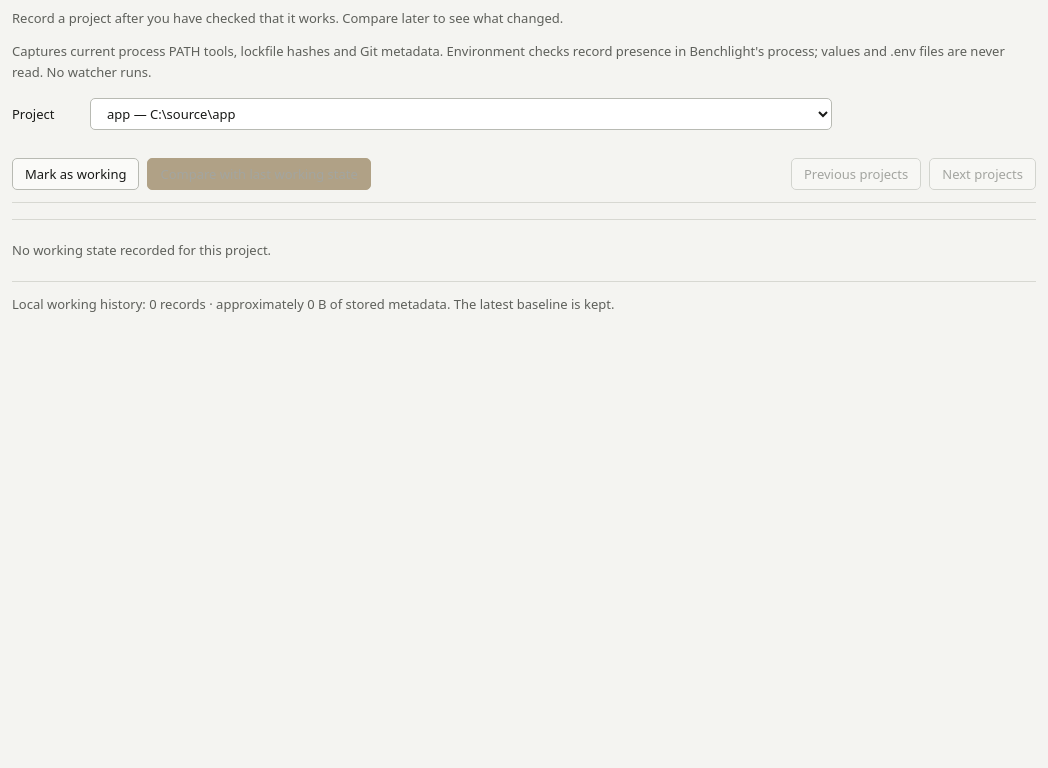
Test: requires a working baseline and shows changed observations without a causal claim
Expected: the text "No working state recorded for this project." is shown, [12,219,1036,282]
Expected: the button "Compare with last working state" is disabled, [148,158,371,190]
What coordinates should you click on to do the following:
click the button "Mark as working"
I would click on:
 (76, 174)
Its box is [12,158,140,190].
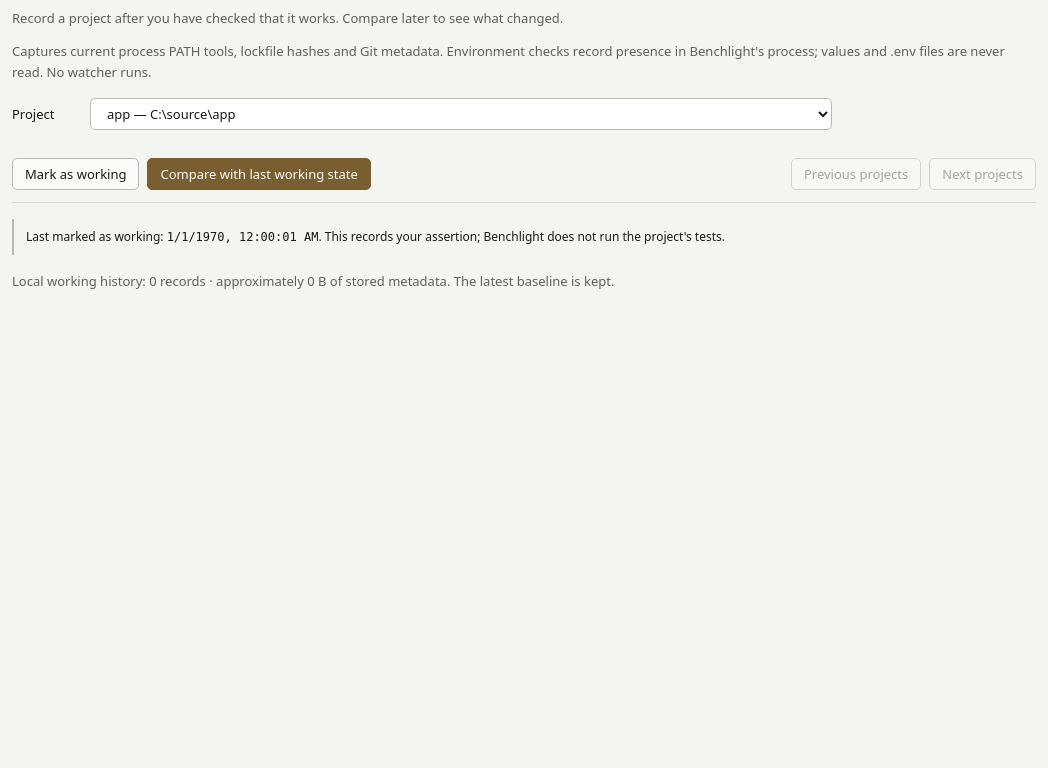
What coordinates should you click on to do the following:
click the button "Compare with last working state"
I would click on:
 (259, 174)
Its box is [148,158,371,190].
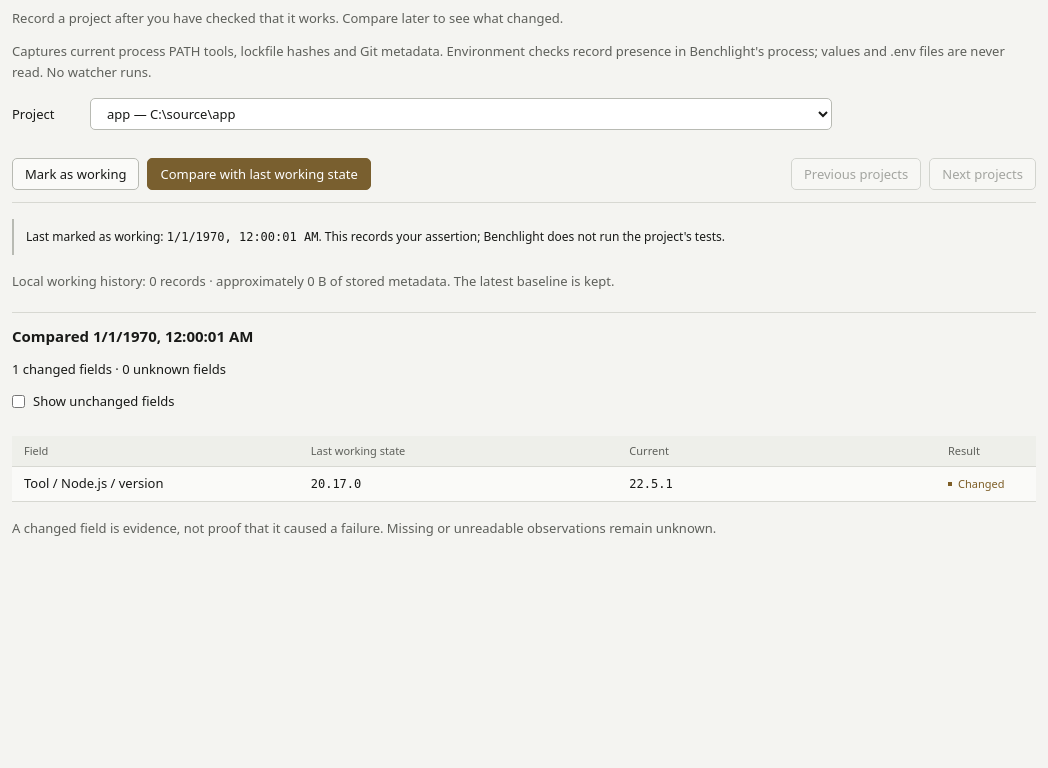
Now the text "22.5.1" is shown, box [629,477,673,491]
Now the text "not proof that it caused" is shown, box [12,519,716,537]
